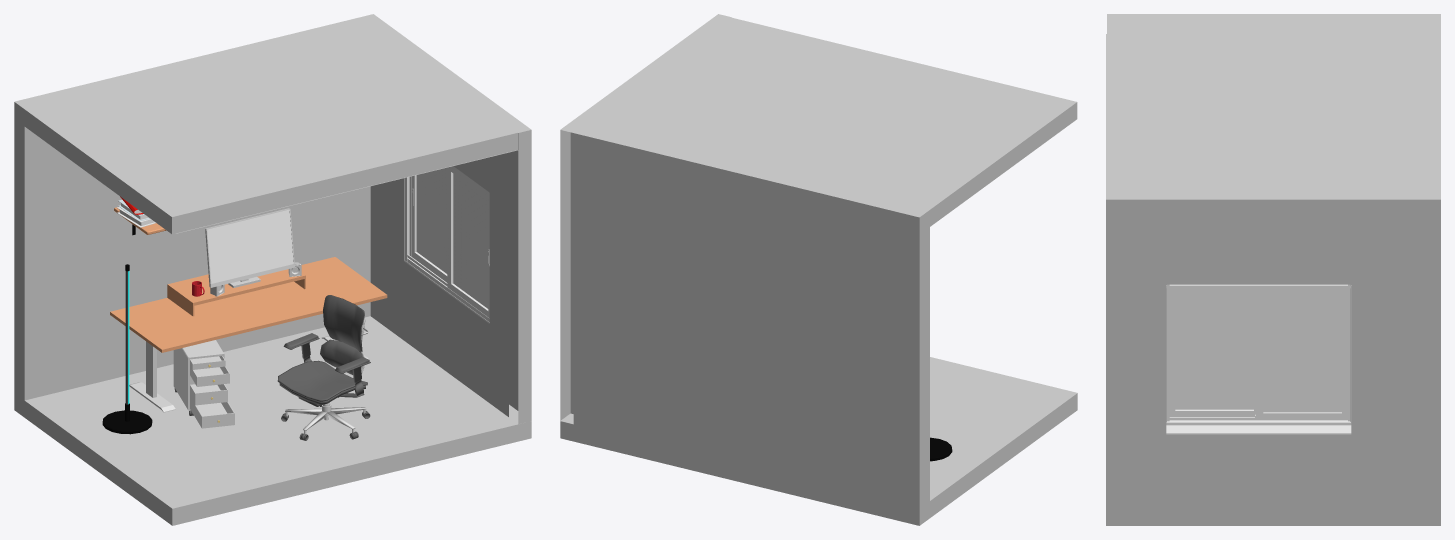
File: RoomCompressed.glb
3 views of the same model, side by side, from view 1: azimuth 30°, elevation 25°; view 2: azimuth 150°, elevation 25°; view 3: azimuth 270°, elevation 25° (orthographic). The views are drawn at different scales.
Parts seen in each view (by area): view 1: Cube.001, Cube.005, Window.R, 平面, Window.L, 立方体.004, Cube.006, 円柱.016, 立方体.010, WindowFrame, DeskShelf, Cube.007 (+6 smaller); view 2: Cube.001; view 3: Cube.001, Window.L, Window.R, WindowFrame, Windows_Sill.
Part boxes in pixels (x1,y1,x2,y2): Cube.001: [14, 14, 531, 525]; Cube.005: [110, 257, 387, 352]; Window.R: [447, 166, 489, 317]; 平面: [205, 208, 294, 287]; Window.L: [411, 167, 447, 282]; 立方体.004: [277, 360, 367, 404]; Cube.006: [167, 269, 305, 305]; 円柱.016: [102, 264, 152, 434]; 立方体.010: [323, 295, 364, 351]; WindowFrame: [404, 166, 489, 323]; DeskShelf: [173, 340, 224, 410]; Cube.007: [129, 336, 369, 412]; Cube.001: [560, 14, 1077, 525]; Cube.001: [1106, 14, 1440, 525]; Window.L: [1255, 288, 1347, 420]; Window.R: [1169, 289, 1255, 416]; WindowFrame: [1166, 284, 1351, 425]; Windows_Sill: [1166, 425, 1351, 434].
Bounding box in the file's own units: 5.01 × 3.93 × 3.65.
